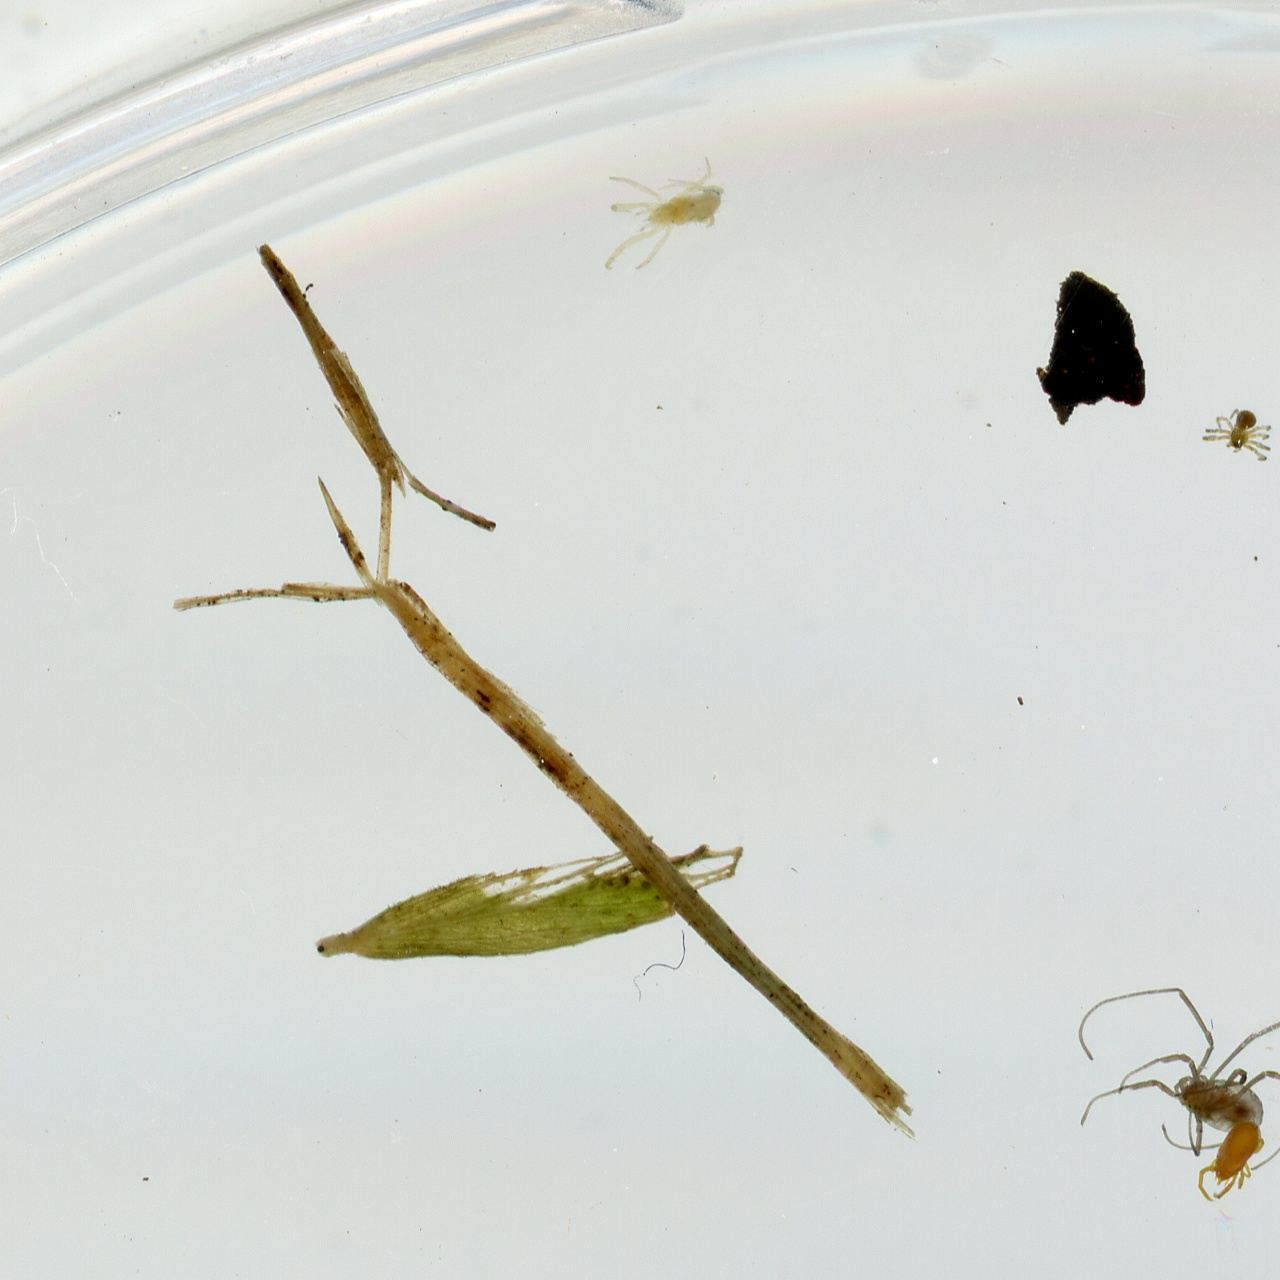arthropod: (1073, 972, 1280, 1173), (568, 134, 747, 290), (1187, 1109, 1274, 1216), (1199, 402, 1278, 468)
